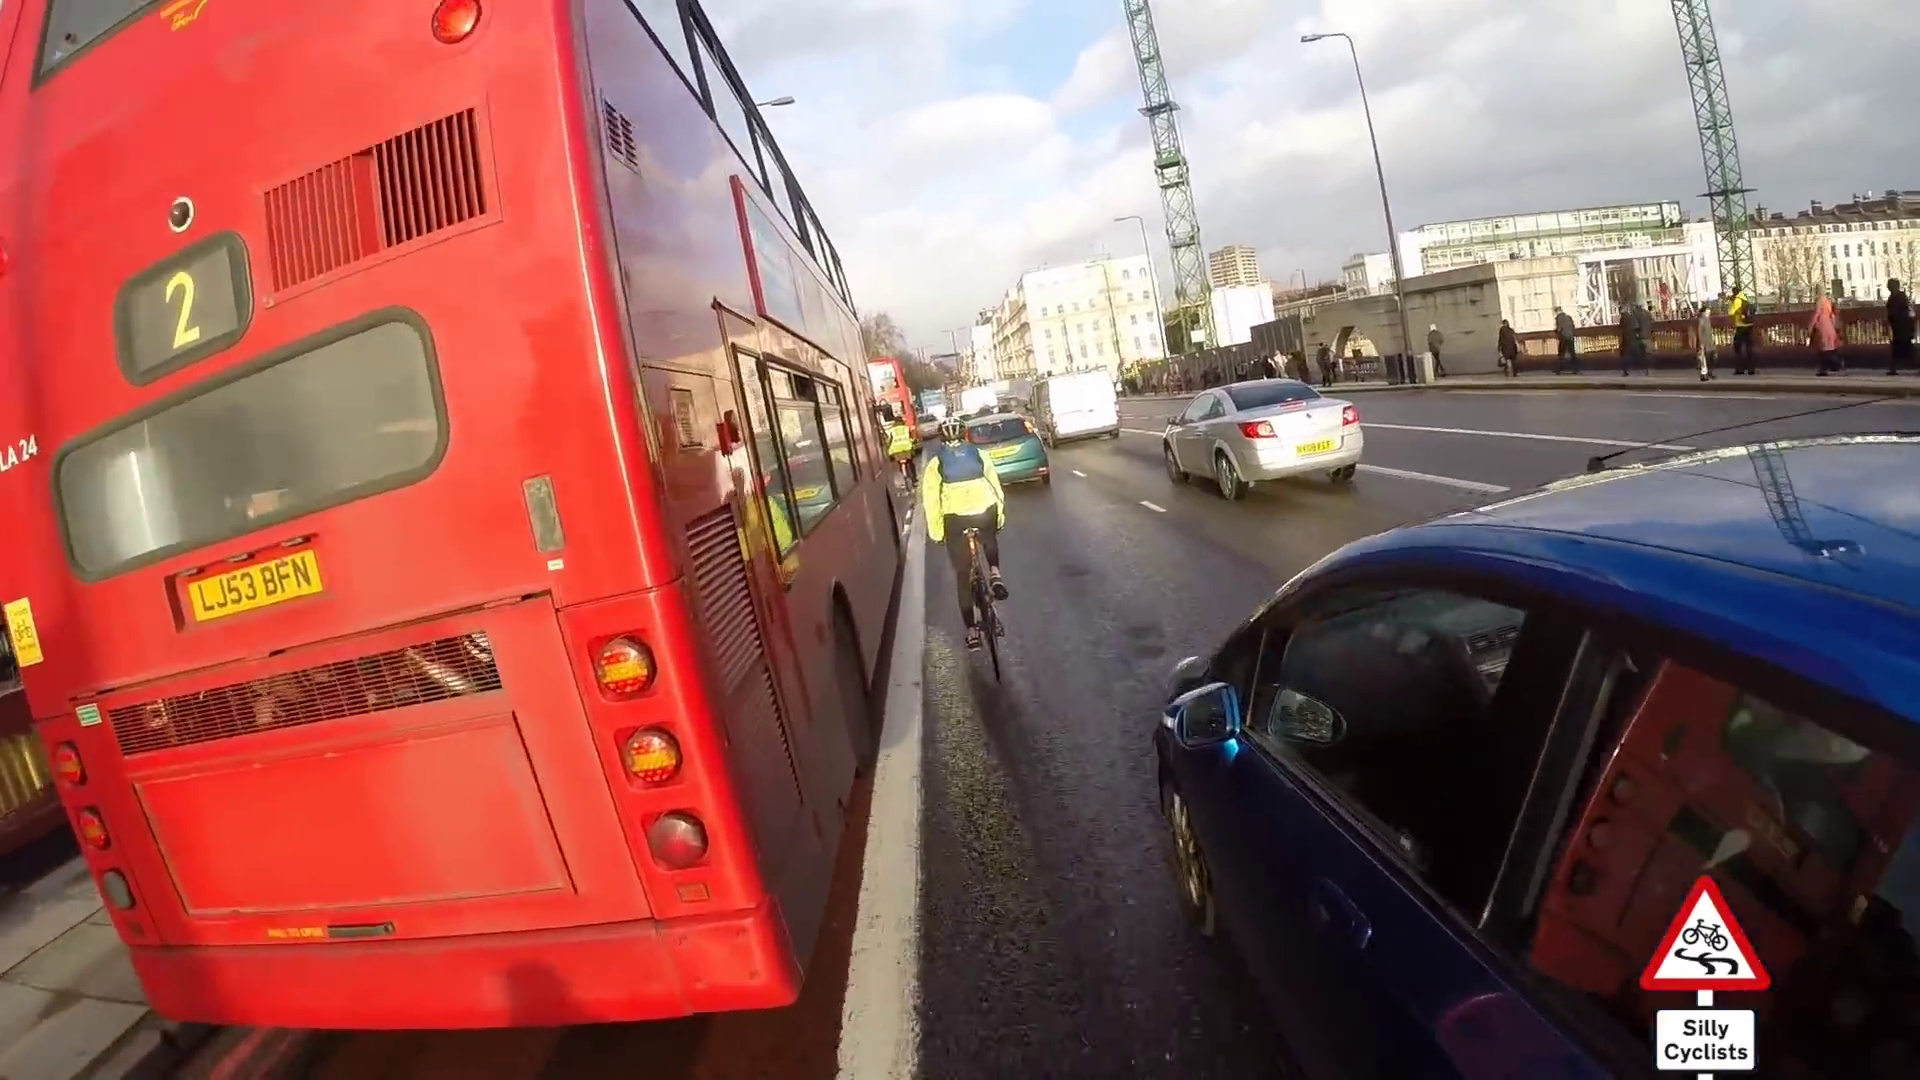cyclist_back: (905, 413, 1025, 695)
